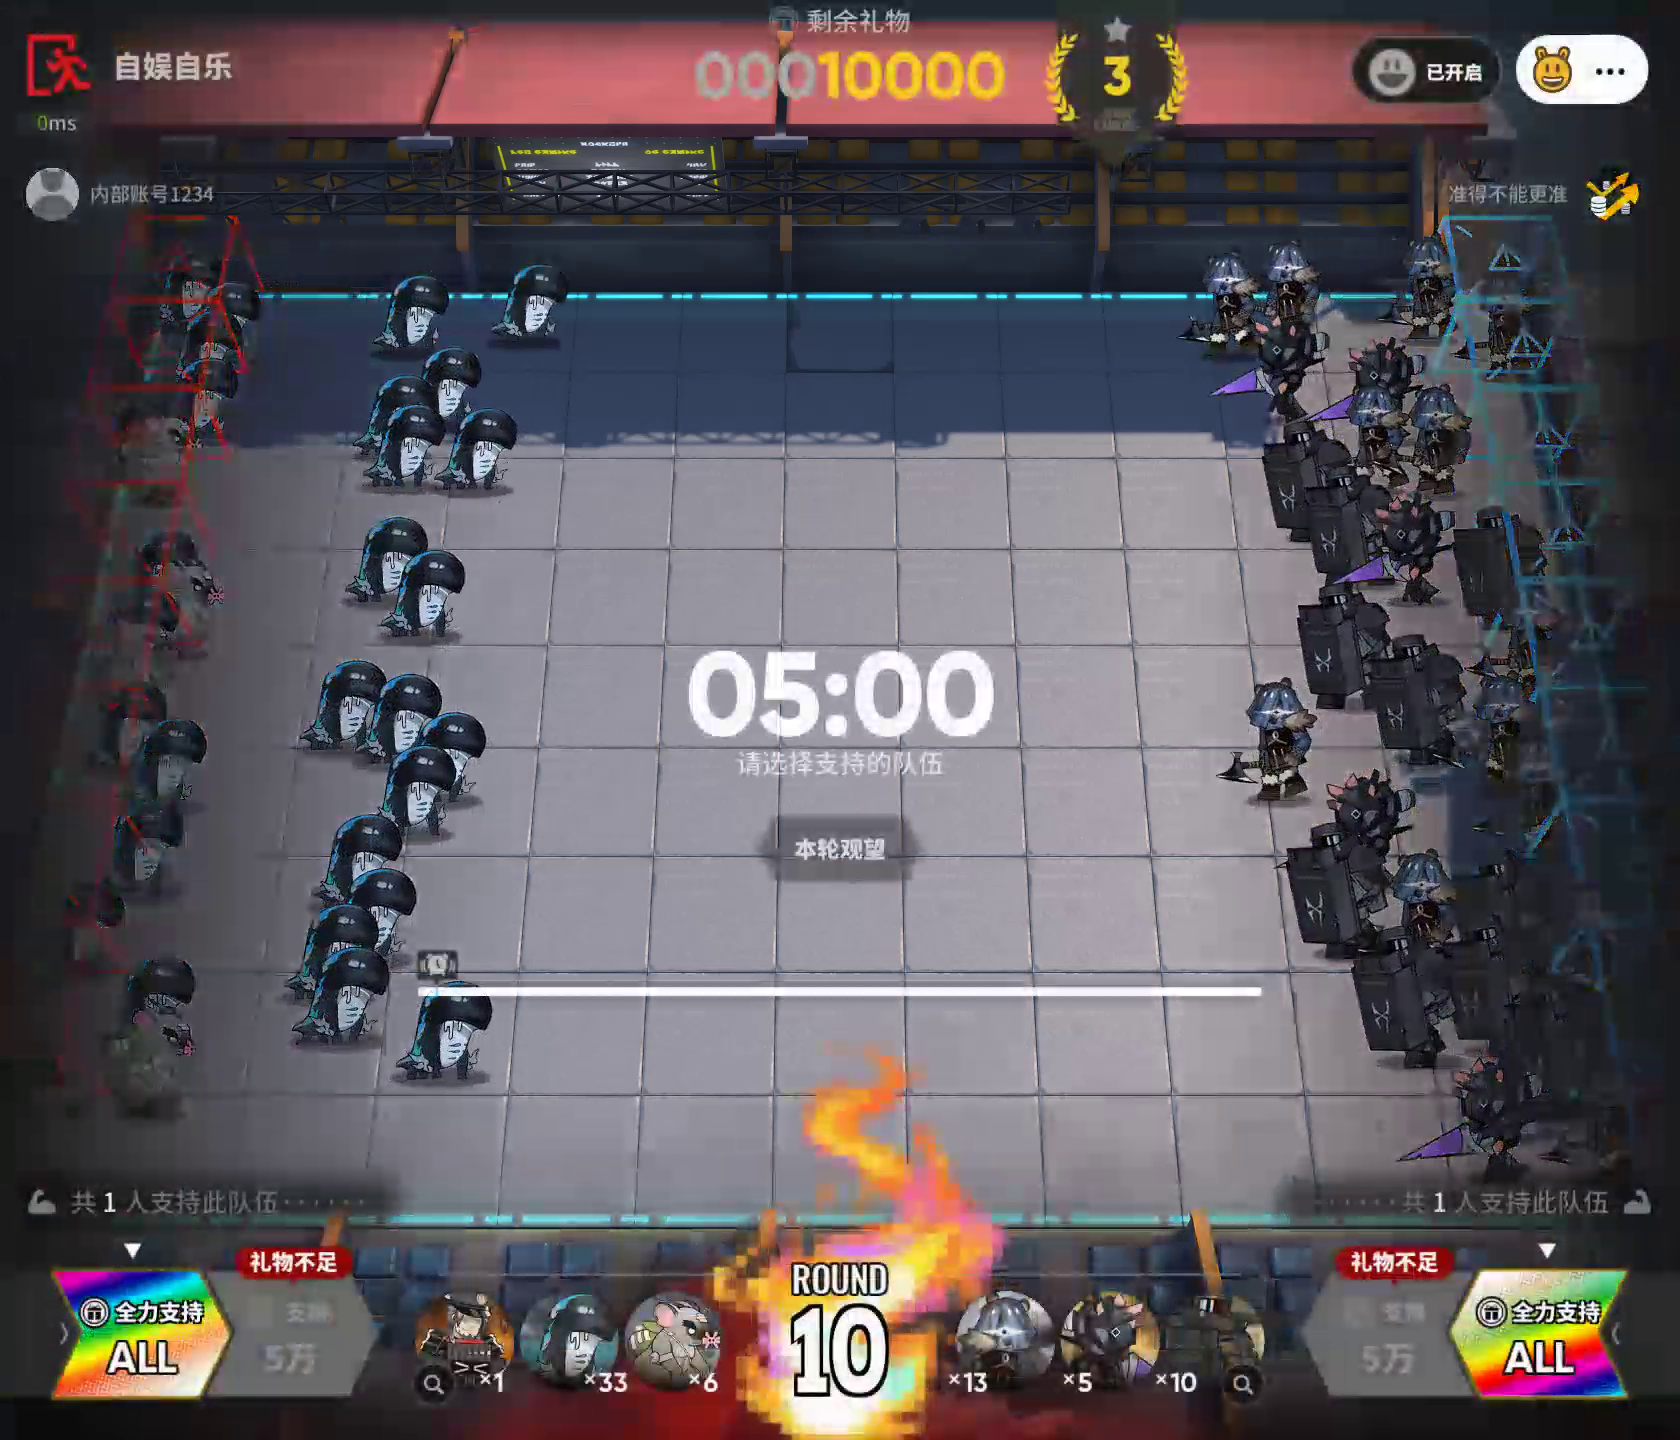奔跑吧！躯壳！: (1219, 673, 1316, 801), (951, 1286, 1054, 1391), (1386, 229, 1481, 334), (1463, 274, 1551, 381), (1186, 246, 1267, 361), (1250, 233, 1336, 341), (1403, 374, 1476, 494), (1336, 376, 1414, 486), (1480, 666, 1536, 789), (1384, 846, 1457, 933)
杰斯顿·威廉姆斯: (411, 1280, 520, 1394)
清醒的墨魉: (516, 1280, 631, 1399), (407, 974, 496, 1094), (289, 949, 389, 1051), (97, 674, 191, 783), (306, 804, 397, 914), (279, 906, 383, 997), (136, 709, 223, 817), (294, 651, 381, 759), (344, 511, 437, 611), (341, 863, 420, 971), (44, 871, 126, 974), (111, 949, 209, 1034), (376, 739, 459, 834), (104, 799, 180, 901), (439, 403, 521, 496), (364, 670, 447, 761), (420, 704, 496, 801), (357, 374, 441, 457), (144, 246, 223, 331), (369, 406, 444, 491), (389, 546, 460, 634), (369, 271, 446, 353), (414, 344, 484, 431), (496, 261, 569, 344), (170, 354, 244, 434), (171, 307, 244, 386), (199, 274, 269, 349), (120, 589, 180, 640)
畸变之矛: (1404, 1054, 1540, 1179), (1333, 496, 1454, 611), (1309, 334, 1433, 431), (1211, 316, 1319, 421), (1061, 1286, 1160, 1390), (1324, 760, 1419, 849)
硕鼷: (99, 999, 201, 1123), (626, 1291, 723, 1400), (134, 561, 231, 664), (127, 407, 207, 509)
迟钝的持盾者: (1274, 821, 1397, 959), (1350, 924, 1456, 1076), (1294, 584, 1403, 719), (1374, 629, 1471, 769), (1456, 497, 1556, 626), (1261, 424, 1364, 539), (1301, 460, 1390, 589), (1160, 1293, 1274, 1391)
